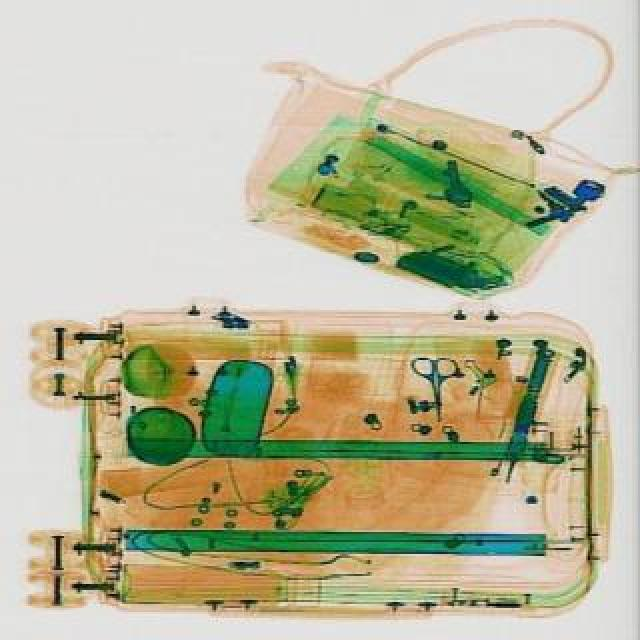pliers: (414, 356, 466, 420)
